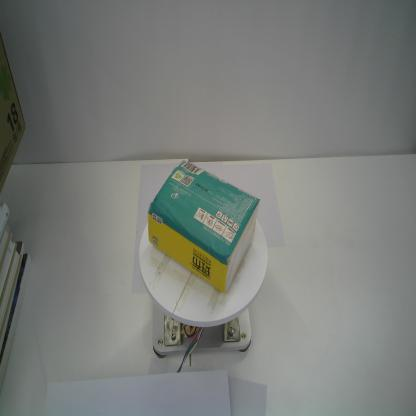Tissue: (147, 156, 259, 296)
